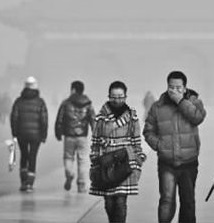person: (142, 68, 206, 223), (88, 79, 148, 223), (54, 78, 96, 194), (10, 73, 49, 195)
